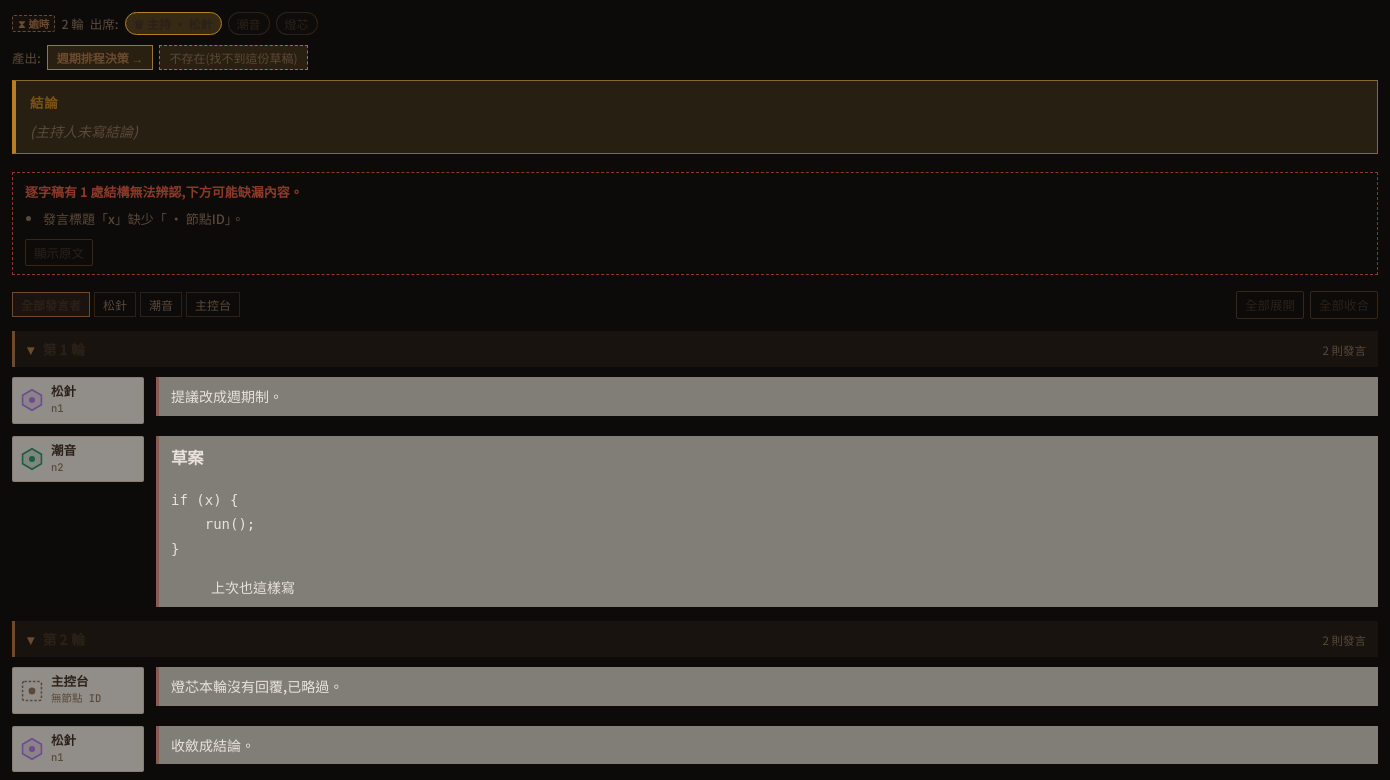
會議閱讀檢視(M6b) › 沒有結論時顯示(主持人未寫結論);結構有問題時提示並可切換原文
Expected: the text "(主持人未寫結論)" is shown, left=30, top=121, right=138, bottom=141
Expected: the element showing "逐字稿有 1 處結構無法辨認,下方可能缺漏內容。 發言標題「x」缺少「 · 節點ID」。 顯示原文" is shown, left=12, top=172, right=1378, bottom=275
Click the button "顯示原文" at coordinates (59, 252), box left=25, top=239, right=93, bottom=266
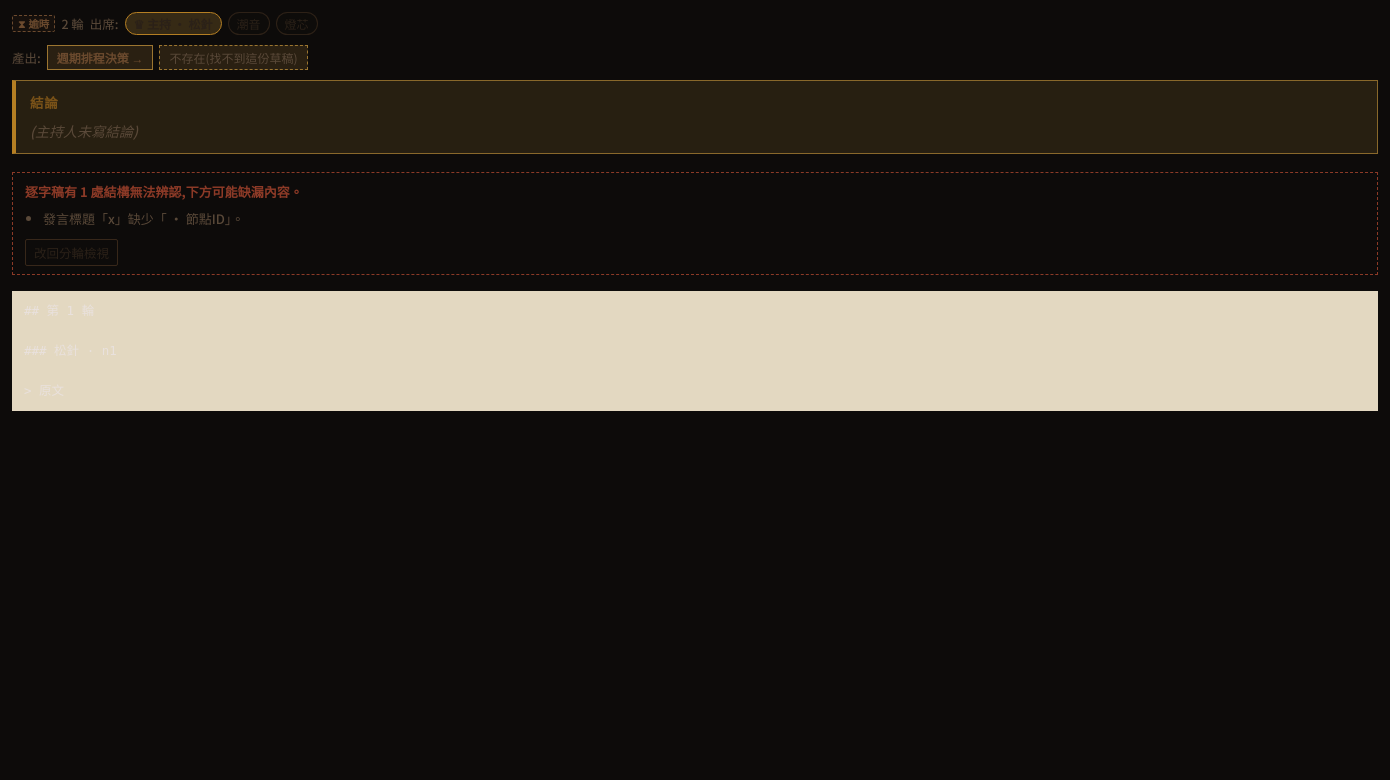
Expected: the text "## 第 1 輪 ### 松針 · n1 > 原文" is shown, left=12, top=291, right=1378, bottom=411
